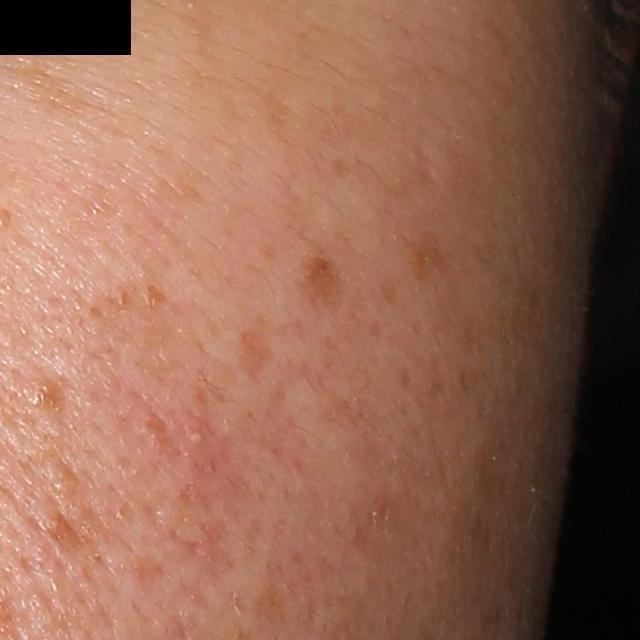atrophic_scar: (236, 327, 275, 385)
melasma: (2, 52, 112, 121), (297, 251, 355, 317), (402, 230, 457, 286)
